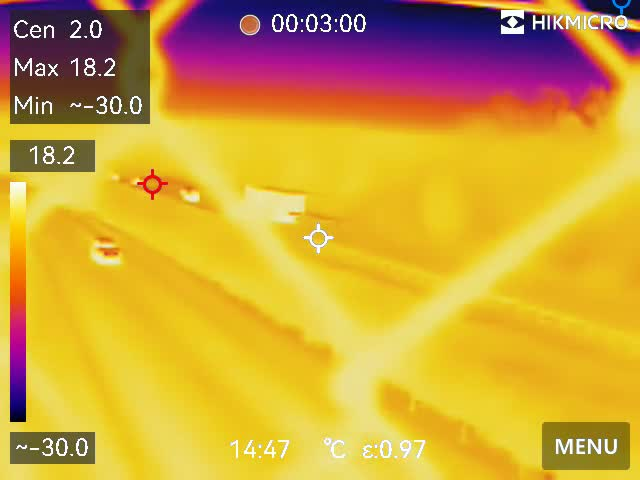heavyTruck: (230, 180, 329, 225)
vehicle: (82, 230, 129, 267)
